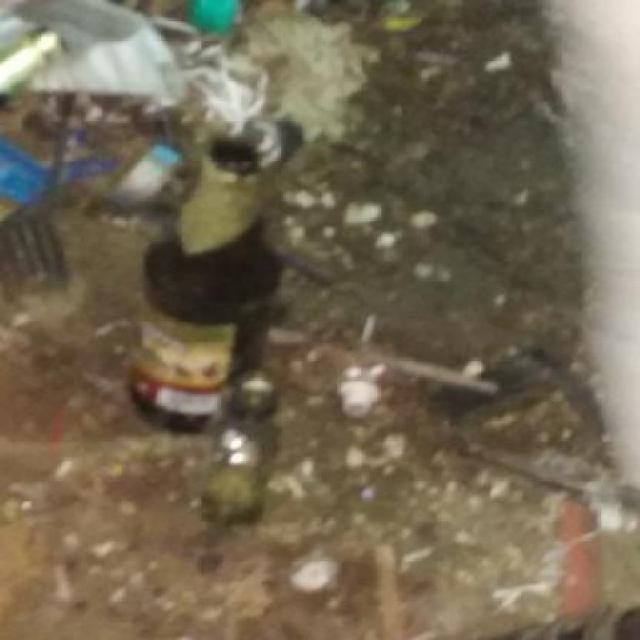garbage: (58, 105, 410, 558)
